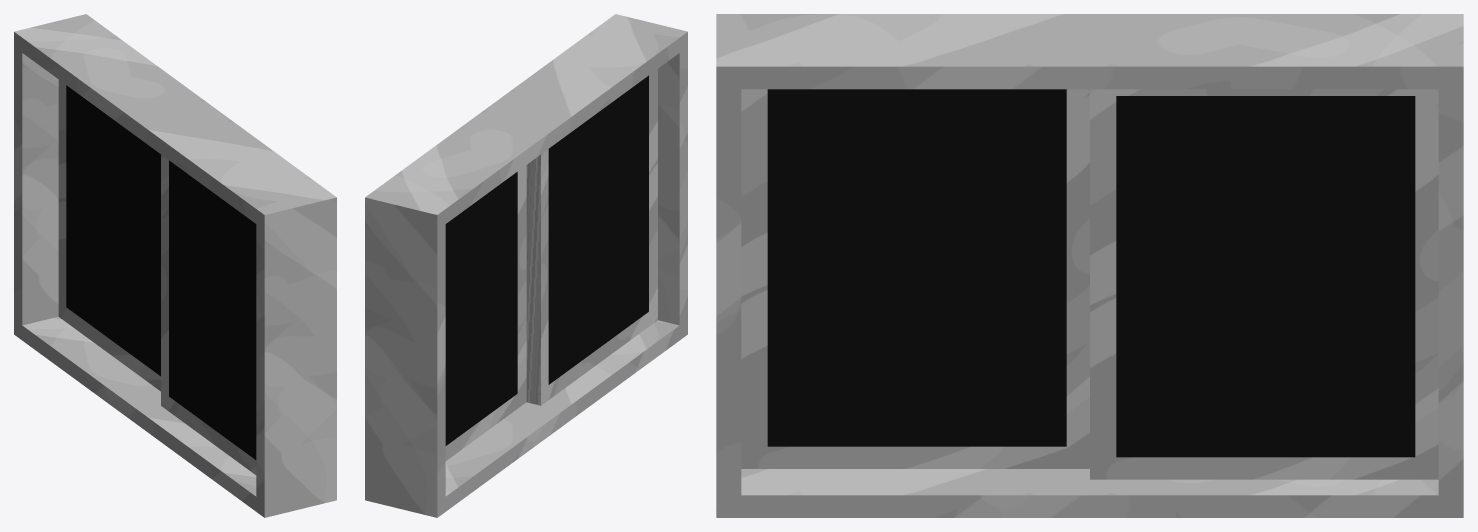
The model's file is window.FBX.
3 views of the same model, side by side, from view 1: azimuth 30°, elevation 25°; view 2: azimuth 150°, elevation 25°; view 3: azimuth 270°, elevation 25° (orthographic). The views are drawn at different scales.
Visible parts, largest first — view 1: slidingwindow061, glass022, glass024, slidingwindow058, slidingwindow060; view 2: slidingwindow061, glass024, glass022, slidingwindow060, slidingwindow058; view 3: slidingwindow061, glass022, glass024, slidingwindow058, slidingwindow060.
Part boxes in pixels (x1,y1,x2,y2): slidingwindow061: [14, 14, 336, 517]; glass022: [66, 85, 160, 376]; glass024: [169, 160, 256, 459]; slidingwindow058: [58, 80, 160, 391]; slidingwindow060: [161, 154, 256, 474]; slidingwindow061: [365, 14, 687, 517]; glass024: [548, 75, 648, 384]; glass022: [445, 172, 517, 445]; slidingwindow060: [526, 69, 657, 405]; slidingwindow058: [445, 165, 526, 460]; slidingwindow061: [716, 14, 1463, 517]; glass022: [1116, 96, 1415, 457]; glass024: [767, 89, 1066, 446]; slidingwindow058: [1090, 89, 1438, 479]; slidingwindow060: [741, 89, 1089, 468].
Size of the model in its own units: 0.5 by 2 by 3.
Materials: 3 (2 with a texture image).
